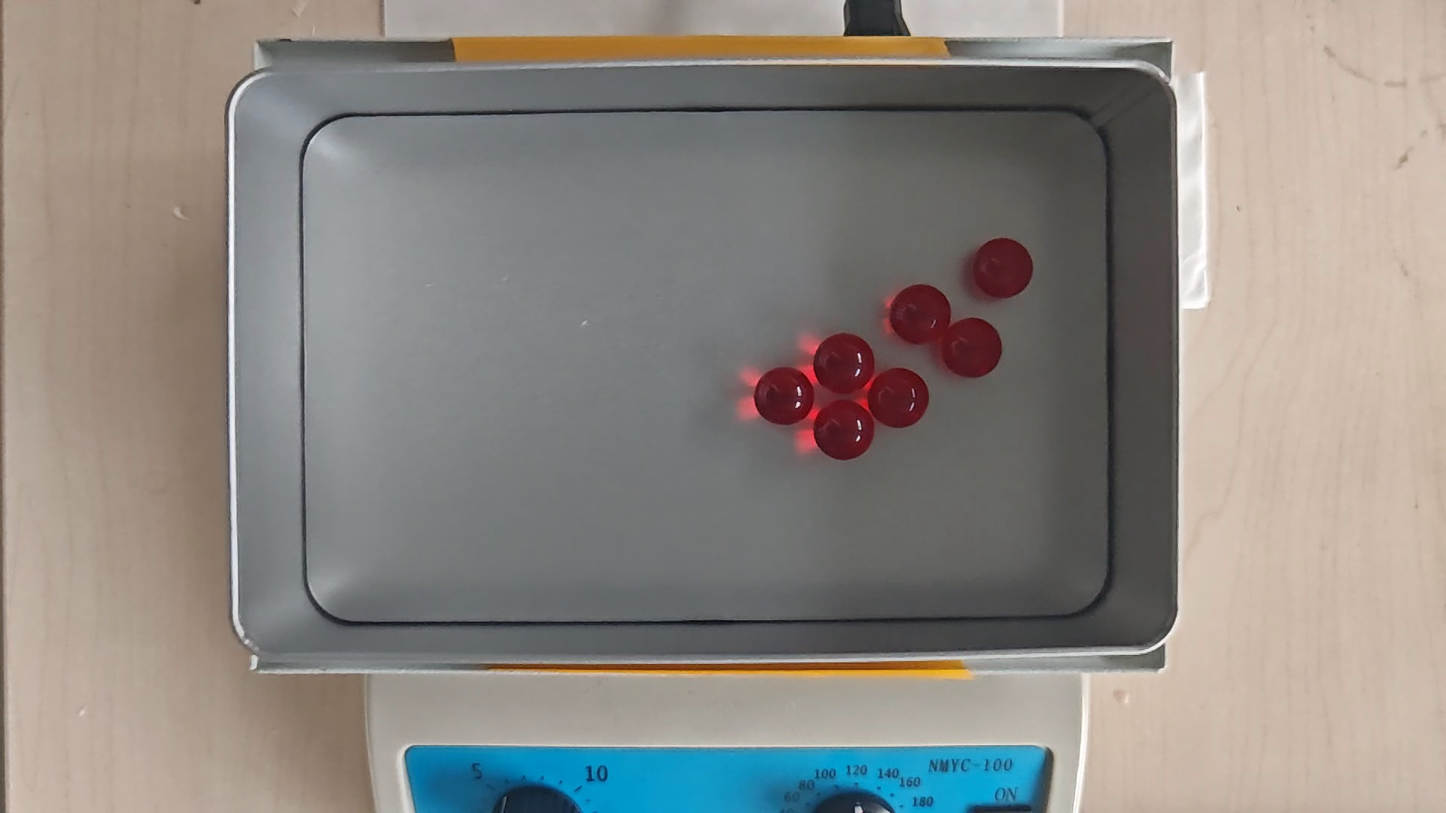ball: (814, 331, 874, 394), (869, 369, 930, 430), (942, 319, 1002, 378), (974, 238, 1032, 298), (815, 400, 872, 461), (891, 285, 950, 343), (757, 367, 815, 425)
container: (300, 114, 1107, 622)
